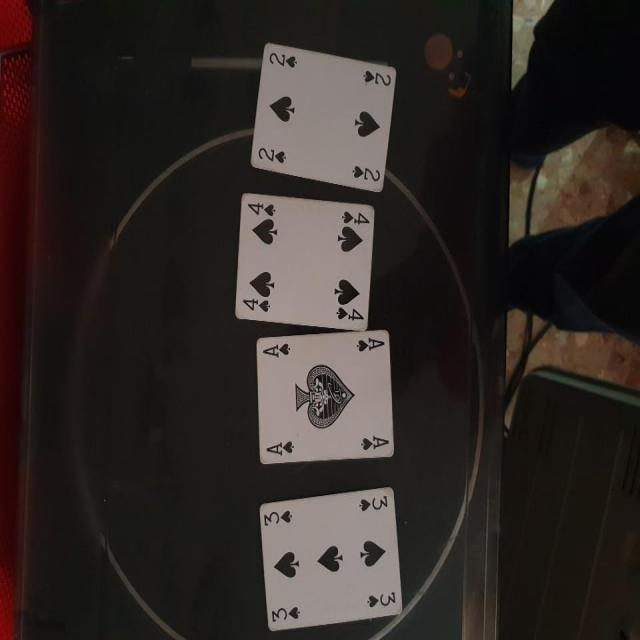2 Spades: (248, 40, 402, 198)
3 Spades: (247, 482, 411, 640)
4 Spades: (229, 189, 383, 337)
A Spades: (243, 325, 404, 479)
